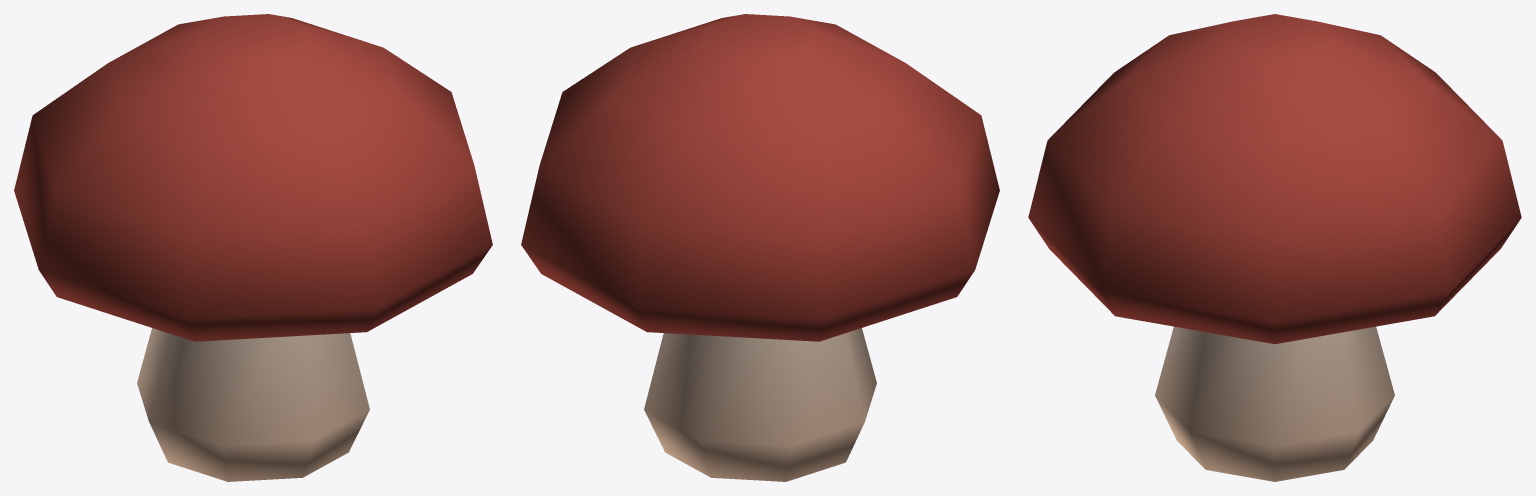
Rendered from Mushroom1_Color2.fbx.
The picture shows the model from 3 angles, left to right: view 1: azimuth 30°, elevation 25°; view 2: azimuth 150°, elevation 25°; view 3: azimuth 270°, elevation 25°; orthographic projection.
Parts seen in each view (by area): view 1: Mushroom1_Color2; view 2: Mushroom1_Color2; view 3: Mushroom1_Color2.
Boxes of the visible parts, x1=… form: Mushroom1_Color2: x1=14, y1=14, x2=492, y2=481; Mushroom1_Color2: x1=521, y1=14, x2=999, y2=481; Mushroom1_Color2: x1=1028, y1=14, x2=1521, y2=481.
Bounding box in the file's own units: 13.93 × 12.51 × 13.93.
